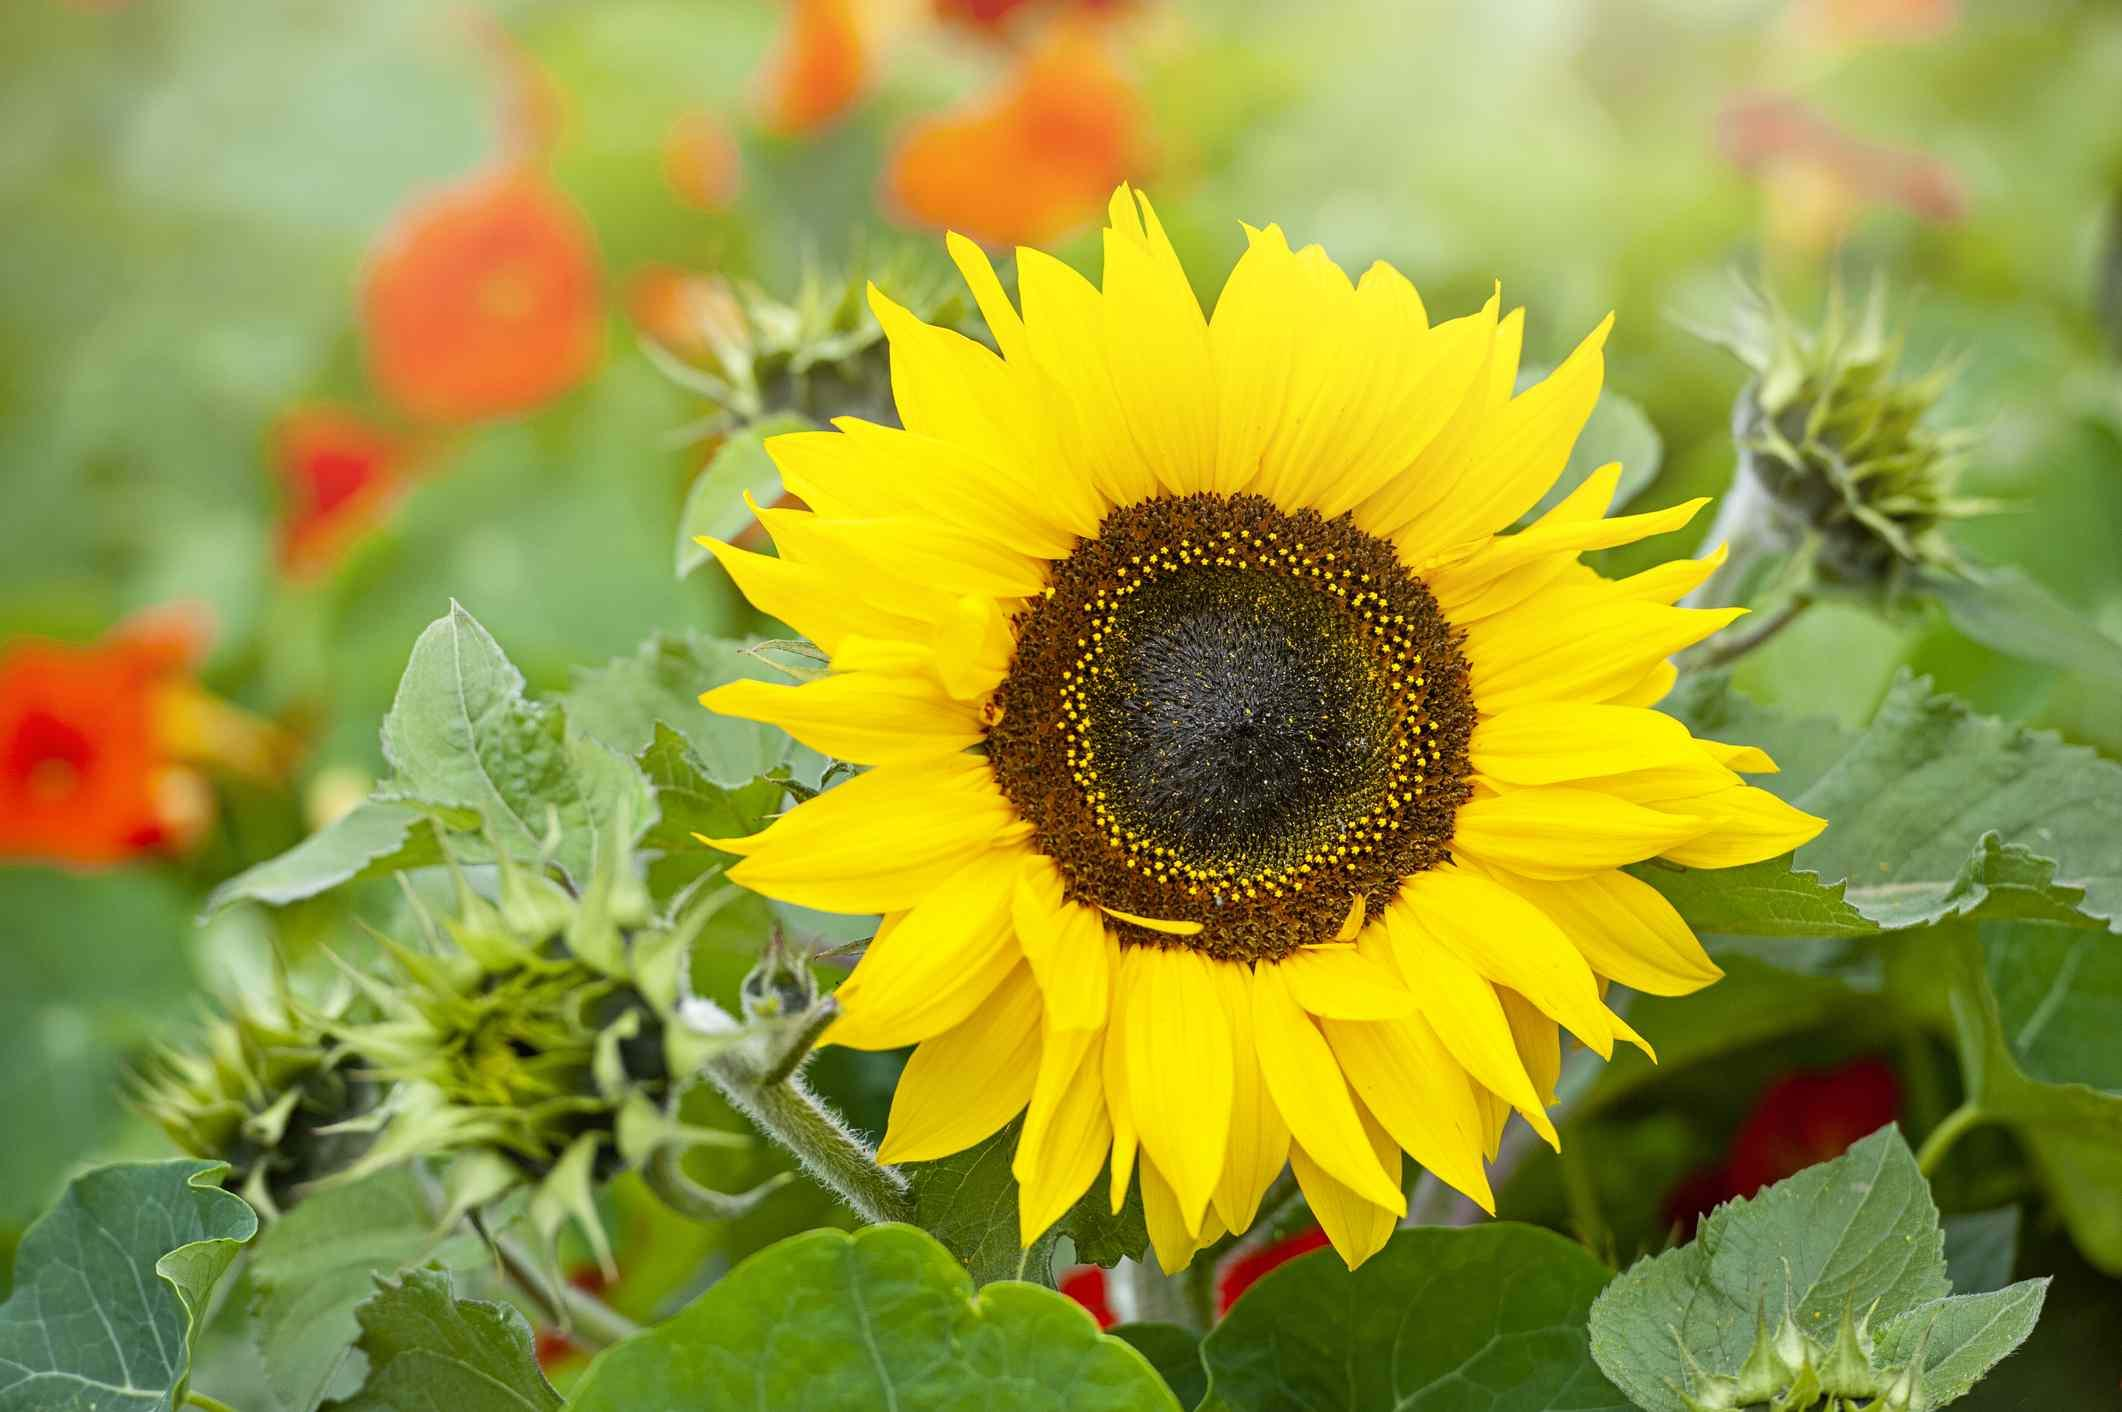sunflower: (696, 162, 1824, 1299)
